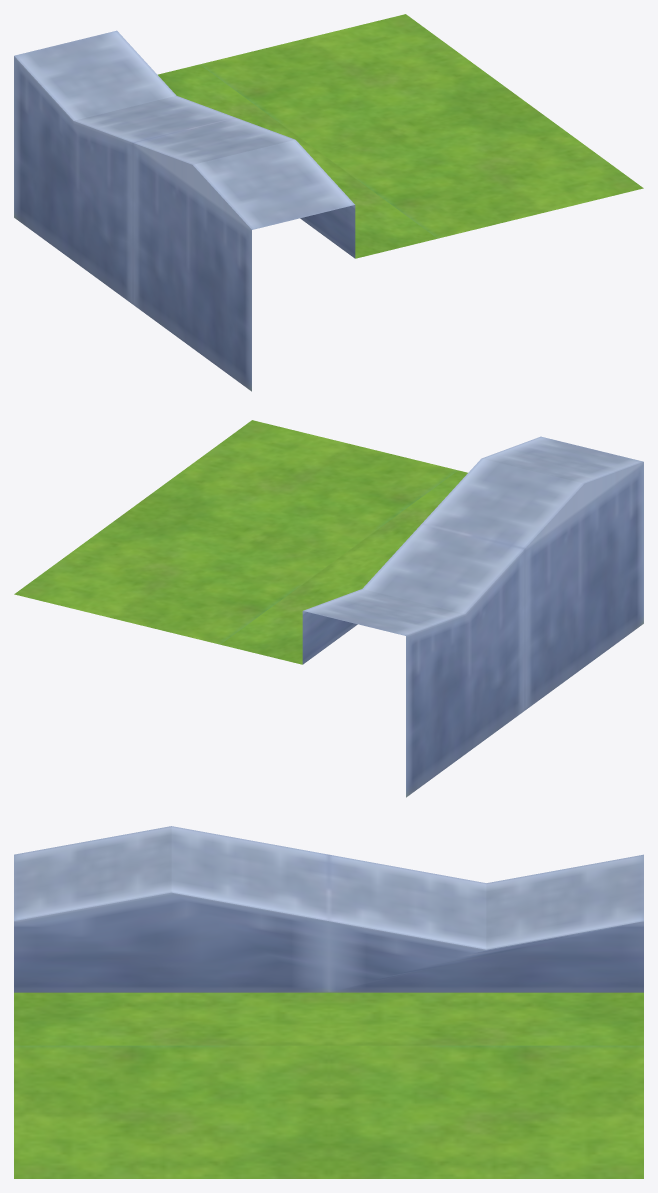
File: stone_straight.glb
3 views of the same model, one above another, from view 1: azimuth 30°, elevation 25°; view 2: azimuth 150°, elevation 25°; view 3: azimuth 270°, elevation 25° (orthographic). The views are drawn at different scales.
Parts seen in each view (by area): view 1: stone_straight; view 2: stone_straight; view 3: stone_straight.
Boxes of the visible parts, x1,y1,x2,y2 form: stone_straight: (14,14,643,391); stone_straight: (14,420,643,797); stone_straight: (14,826,643,1178).
Bounding box in the file's own units: 1.9 × 0.85 × 2.
1 material, 1 textured.
